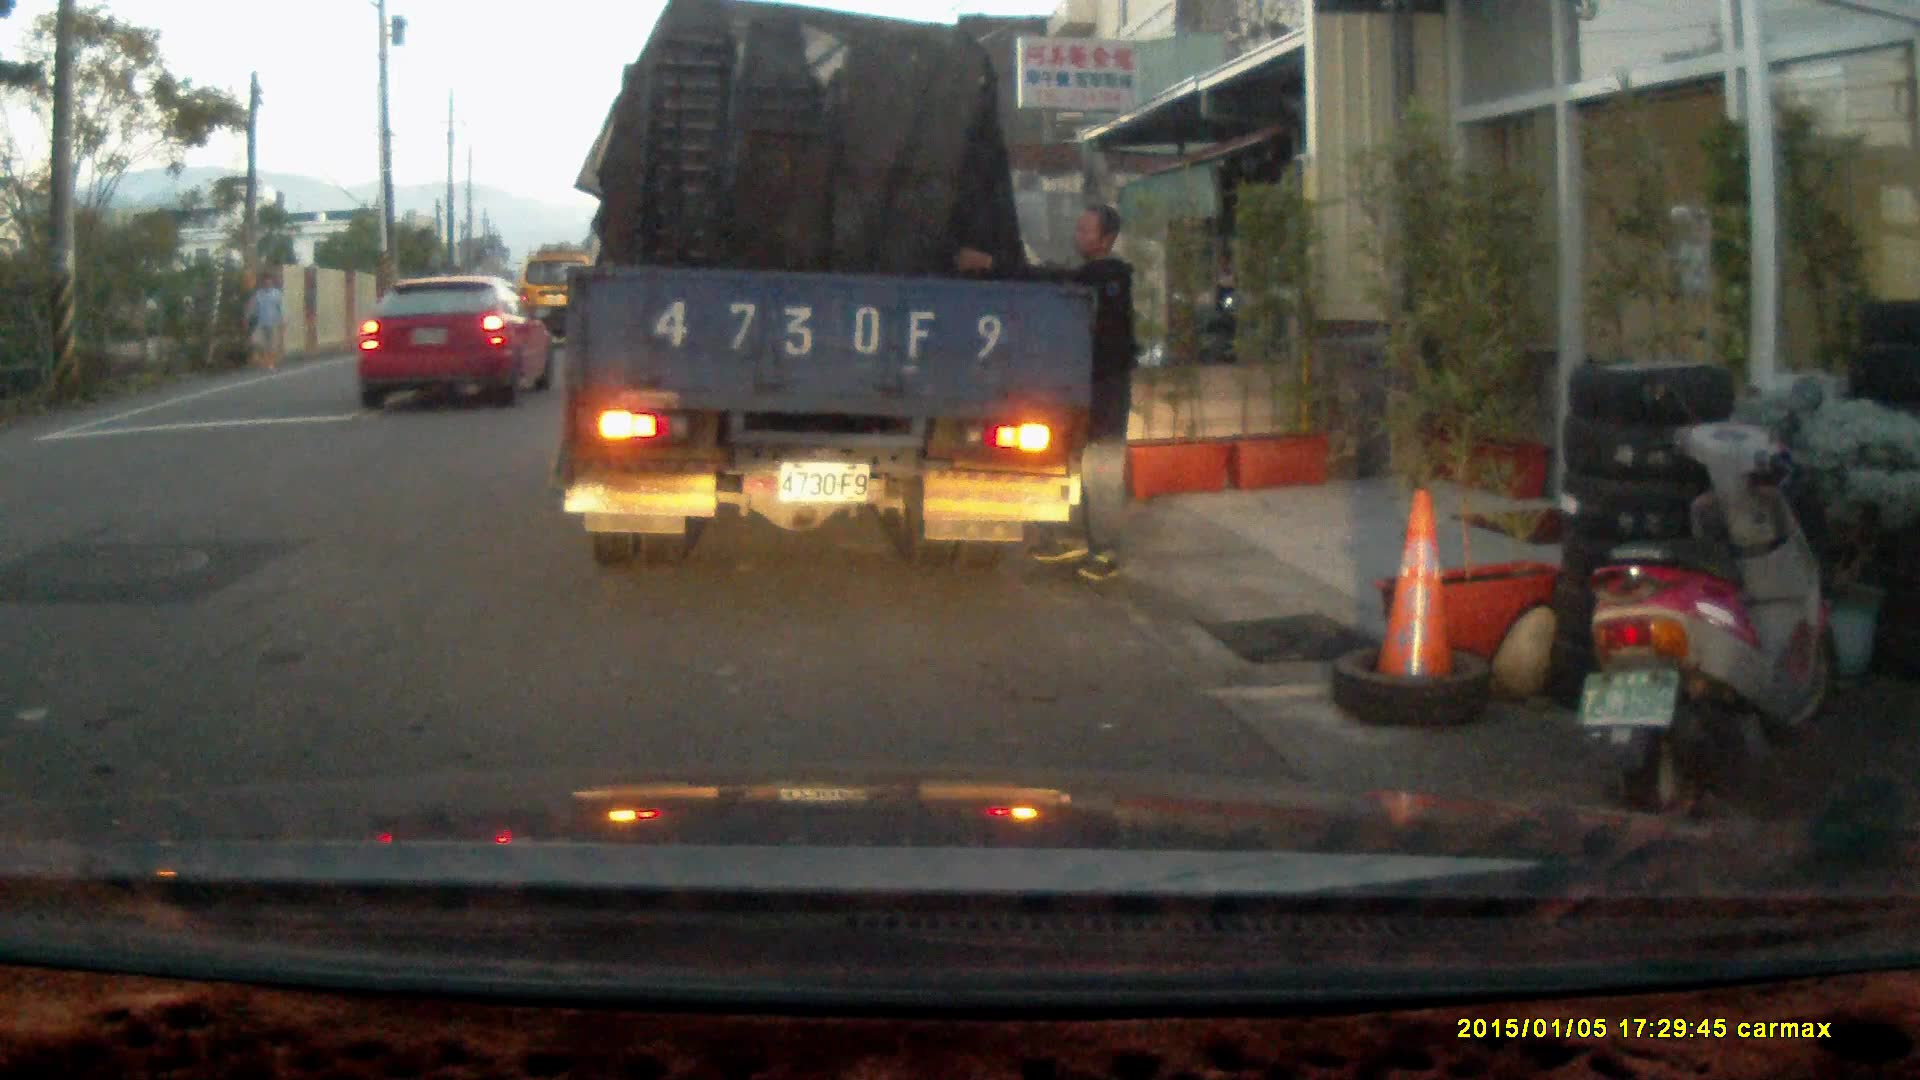pedestrian: (946, 199, 1137, 582), (243, 274, 285, 372)
vehicle: (565, 23, 1097, 572), (362, 277, 556, 413), (520, 250, 595, 347)
